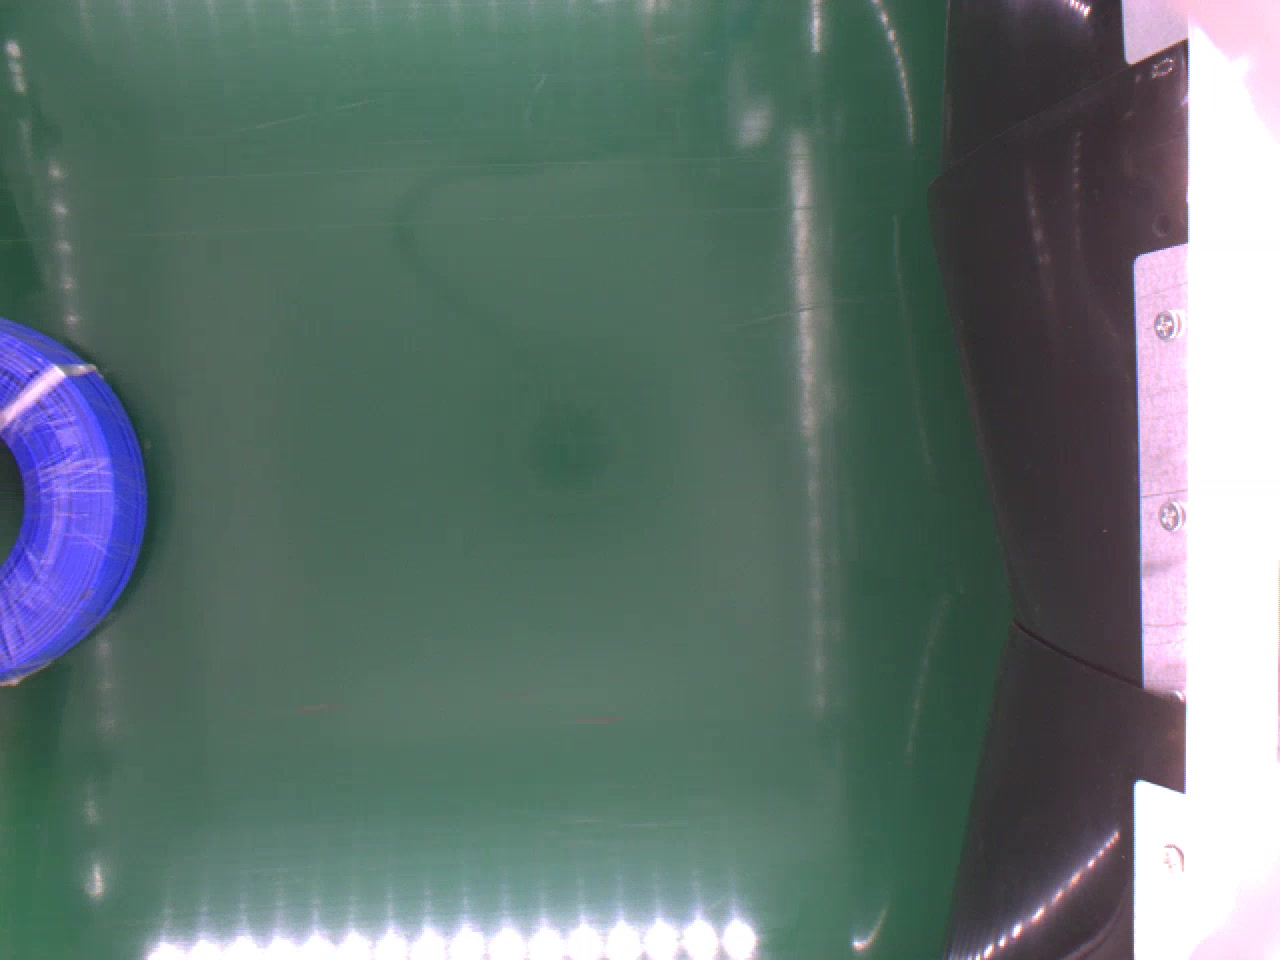blue: (0, 315, 150, 685)
